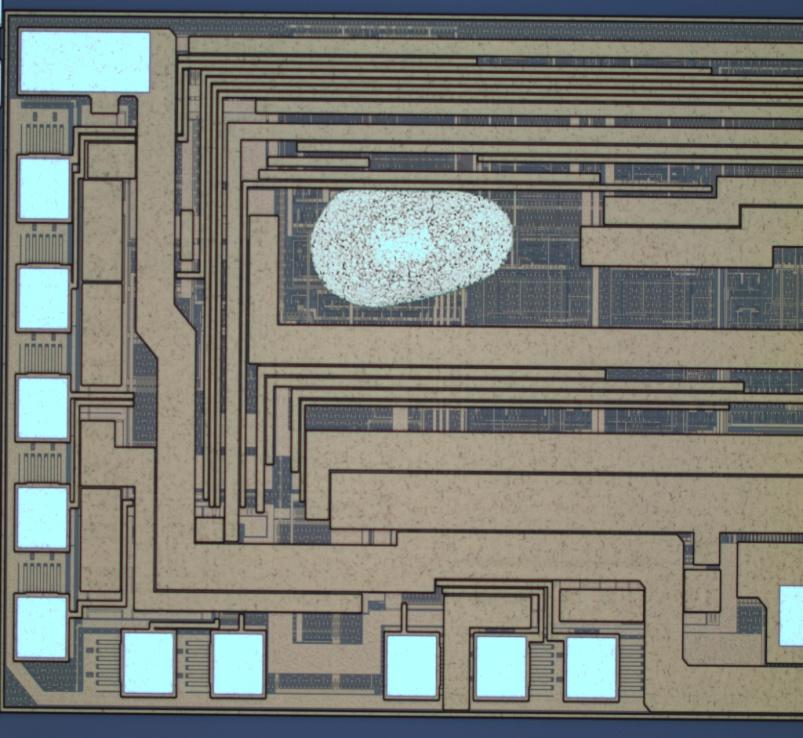BLOCK ETCH: (300, 171, 526, 321)
